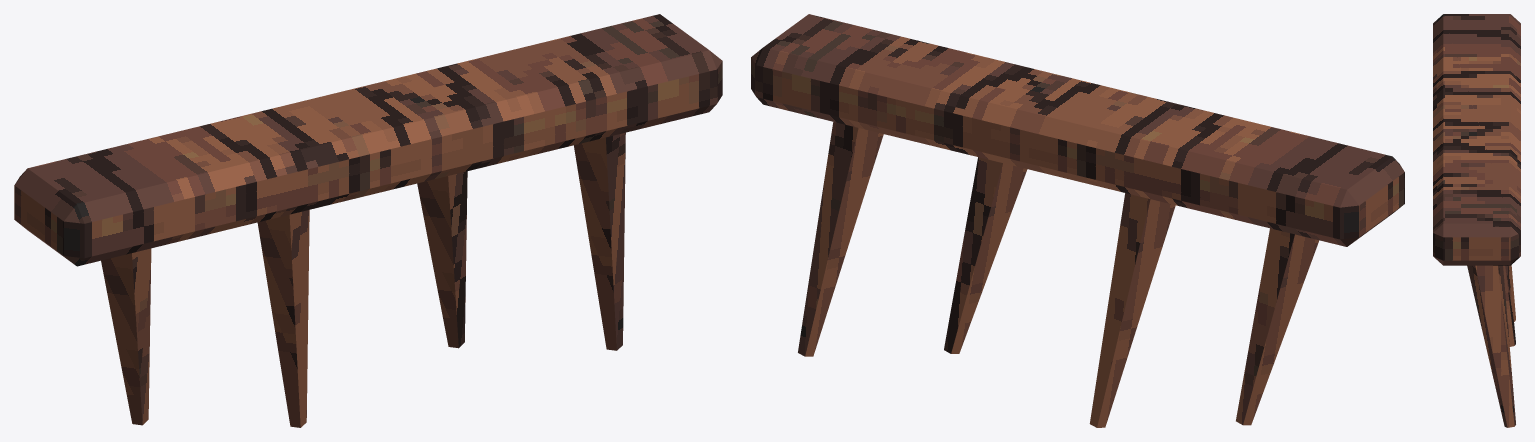
Rendered from beira_reta.fbx.
3 renders of one model, left to right at view 1: azimuth 30°, elevation 25°; view 2: azimuth 150°, elevation 25°; view 3: azimuth 270°, elevation 25°, orthographic. The views are drawn at different scales.
Parts seen in each view (by area): view 1: bosque_beira_reta; view 2: bosque_beira_reta; view 3: bosque_beira_reta.
Part boxes in pixels (x1,y1,x2,y2): bosque_beira_reta: (14, 14, 722, 427); bosque_beira_reta: (751, 14, 1404, 427); bosque_beira_reta: (1433, 14, 1520, 427).
Bounding box in the file's own units: 100 × 46.71 × 17.
Materials: 1 (1 with a texture image).
